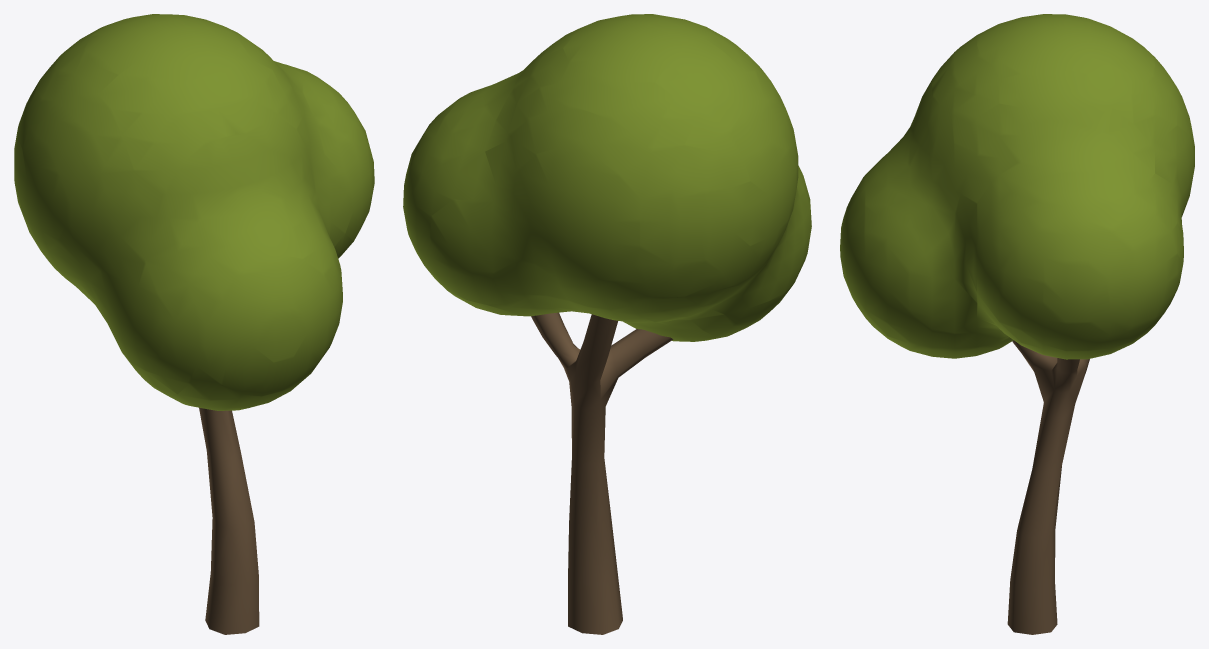
The model's file is Tree_1.glb.
3 views of the same model, side by side, from view 1: azimuth 30°, elevation 25°; view 2: azimuth 150°, elevation 25°; view 3: azimuth 270°, elevation 25° (orthographic). The views are drawn at different scales.
Parts seen in each view (by area): view 1: Tree_1; view 2: Tree_1; view 3: Tree_1.
Boxes of the visible parts, bbox=[...] form: Tree_1: bbox=[14, 14, 374, 634]; Tree_1: bbox=[403, 14, 811, 634]; Tree_1: bbox=[840, 14, 1194, 634].
Bounding box in the file's own units: 3.44 × 5.86 × 3.31.
